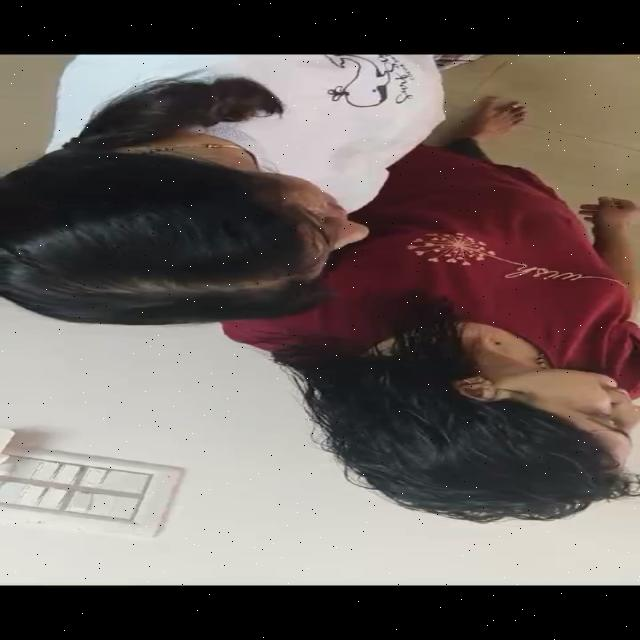humans: (0, 58, 462, 324), (207, 325, 637, 528)
